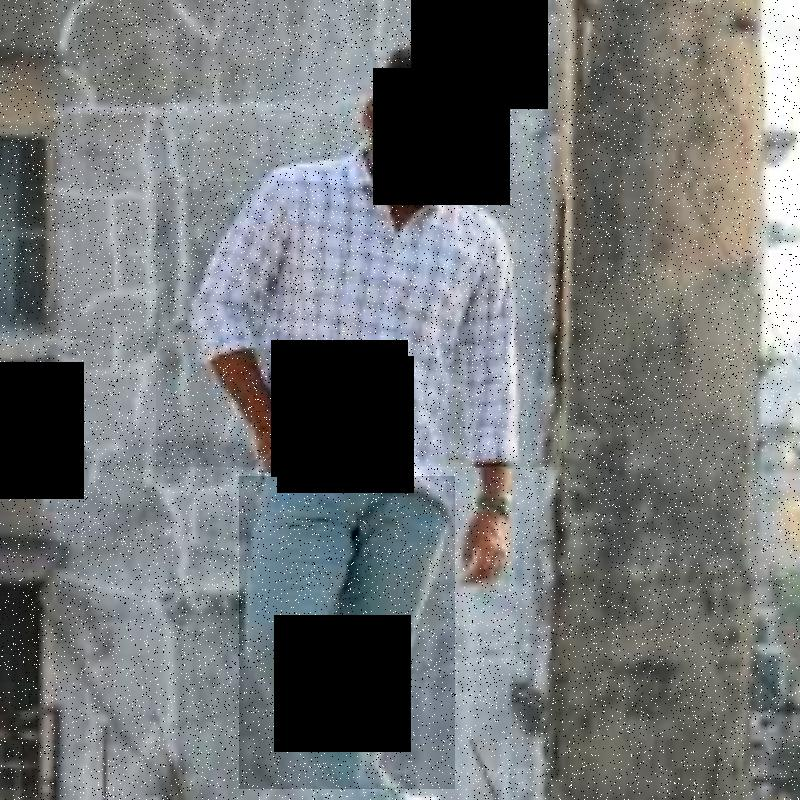Shirt: (156, 181, 564, 467), (239, 476, 455, 789)
